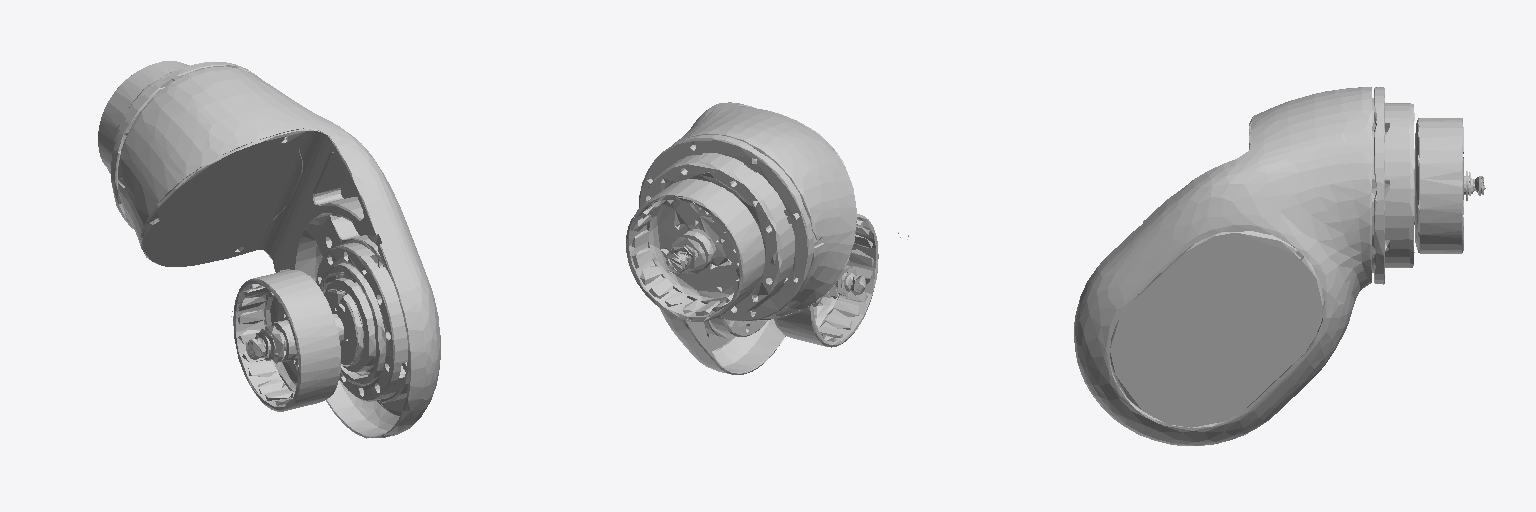
Rendered from left_upper_arm_roll_link.obj.
3 views of the same model, side by side, from view 1: azimuth 30°, elevation 25°; view 2: azimuth 150°, elevation 25°; view 3: azimuth 270°, elevation 25° (orthographic).
Visible parts, largest first — view 1: left_upper_arm_roll_link; view 2: left_upper_arm_roll_link; view 3: left_upper_arm_roll_link.
Part boxes in pixels (x1,y1,x2,y2): left_upper_arm_roll_link: (98, 61, 440, 438); left_upper_arm_roll_link: (626, 102, 908, 374); left_upper_arm_roll_link: (1074, 87, 1485, 445).
Bounding box in the file's own units: 0.0713 × 0.108 × 0.1291.